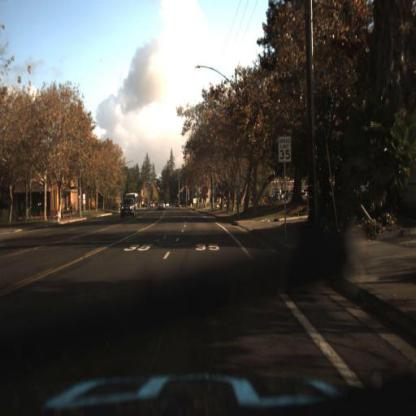car: (120, 197, 134, 220), (156, 197, 168, 213), (176, 202, 181, 208), (151, 203, 156, 209)
pedestrian: (71, 202, 74, 215)
truck: (126, 192, 142, 213)
